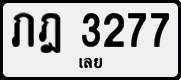letters: (37, 12, 62, 55), (11, 13, 35, 49), (102, 11, 125, 48), (126, 11, 148, 48), (80, 11, 101, 48), (149, 11, 170, 48)
province: (78, 56, 103, 69)
